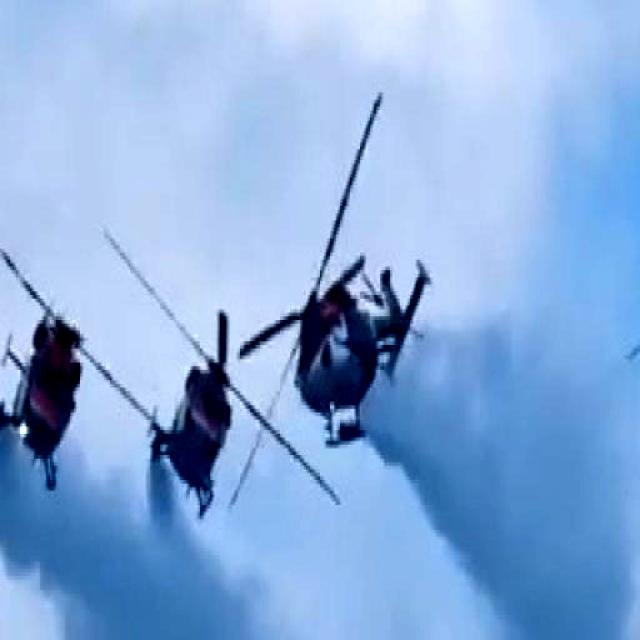drone: (250, 91, 430, 456), (108, 220, 298, 529), (0, 168, 145, 486)
